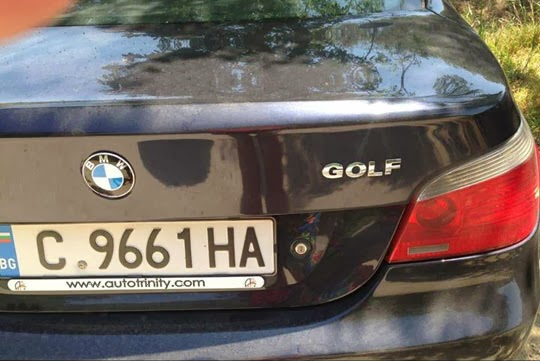registration_plate: (13, 217, 279, 286)
